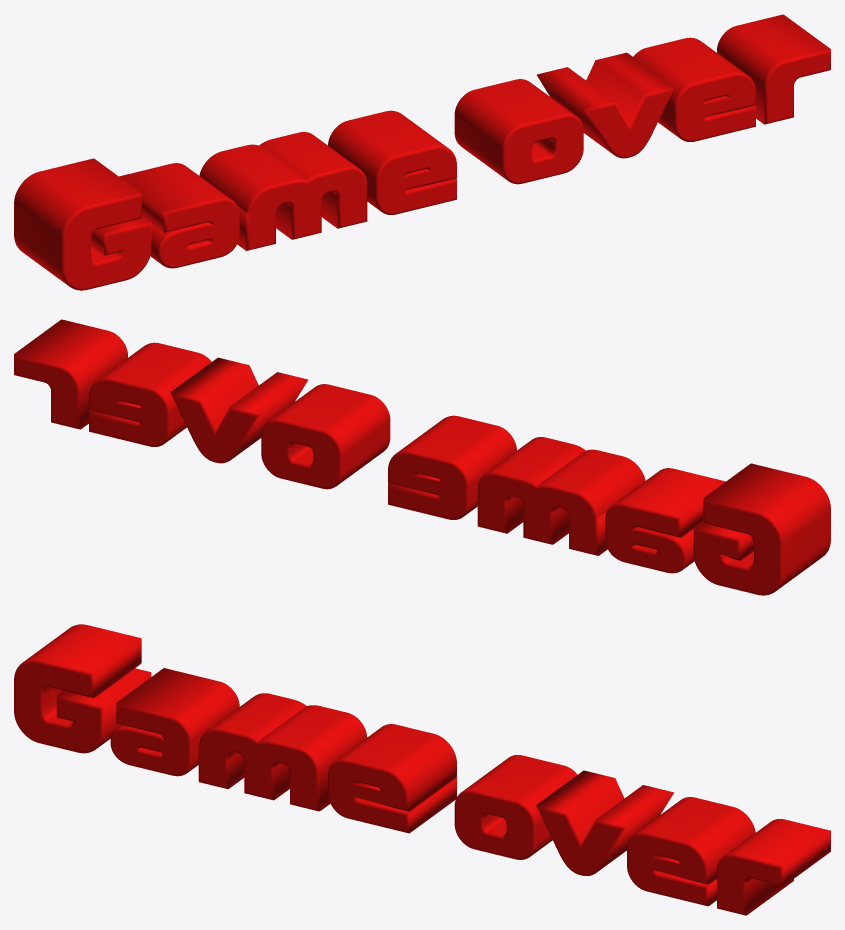
Rendered from game_over.glb.
3 views of the same model, one above another, from view 1: azimuth 30°, elevation 25°; view 2: azimuth 150°, elevation 25°; view 3: azimuth 330°, elevation 25° (orthographic).
Parts seen in each view (by area): view 1: game_over; view 2: game_over; view 3: game_over.
Part boxes in pixels (box(x1,y1,x2,y2)): game_over: box(14, 14, 830, 290); game_over: box(14, 319, 830, 595); game_over: box(14, 624, 830, 915).
Size of the model in its own units: 5.71 by 0.5921 by 0.64.
